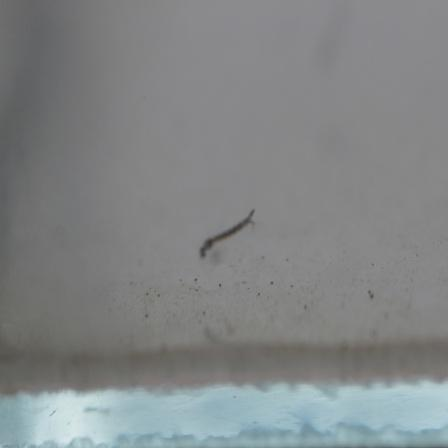Jentik-Nyamuk: (197, 204, 257, 263)
